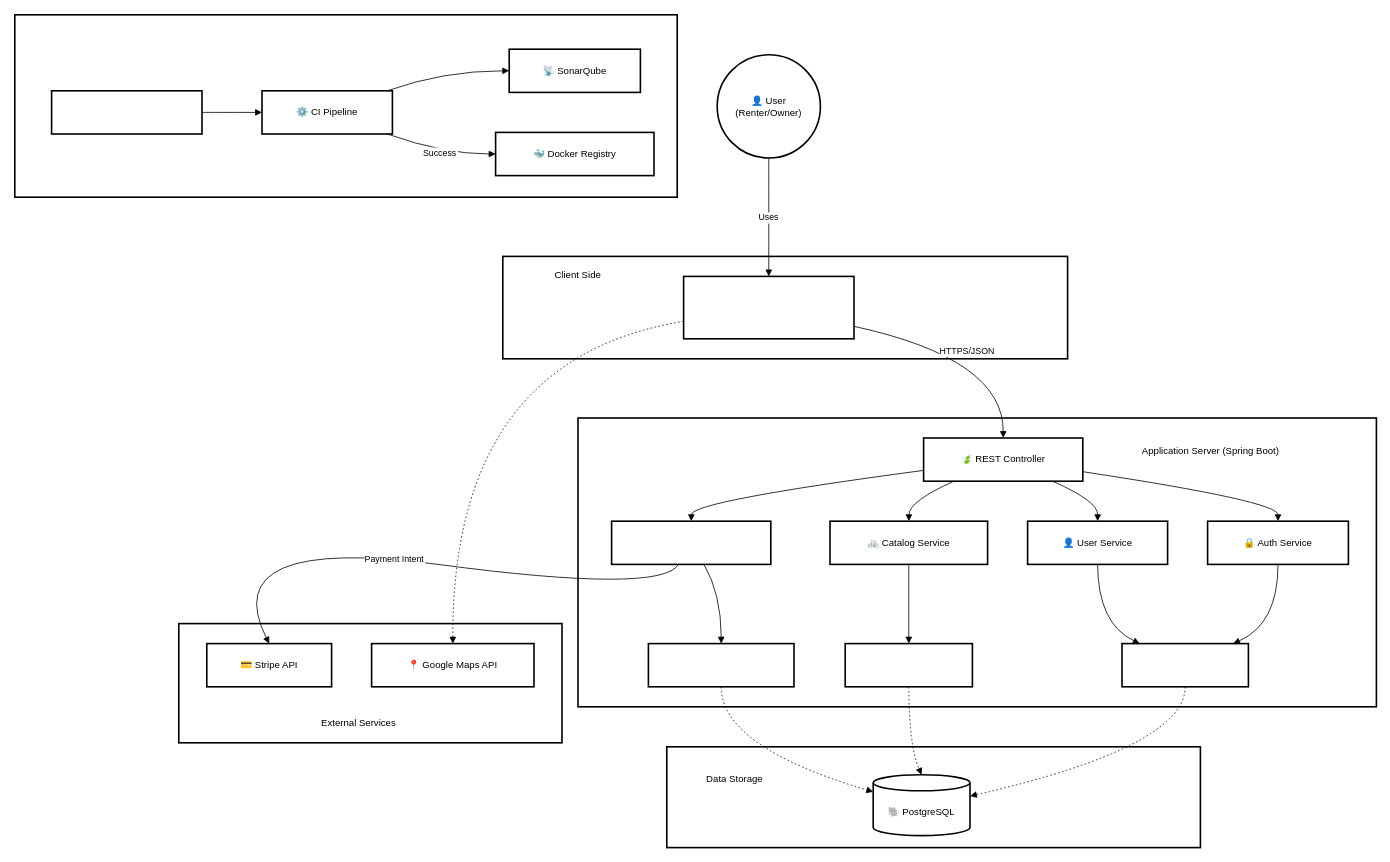
Image size: 1390x862. Some labels were removed from this diagram. Each missing label, with the box of its shape:
QA & DevOps Infrastructure: (14, 14, 678, 198)
💻 Web App / Mobile (React/Vue): (682, 275, 854, 339)
📄 Booking Repo: (647, 642, 794, 687)
📄 Item Repo: (844, 642, 973, 687)
📄 User Repo: (1121, 642, 1249, 687)
📅 Booking Service: (610, 520, 771, 565)
🦊 Git Repository: (50, 90, 202, 134)
